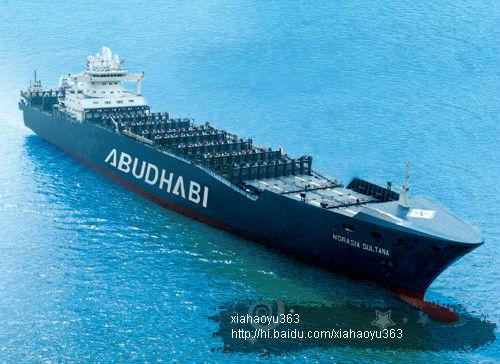Cargoship: (15, 41, 487, 316)
